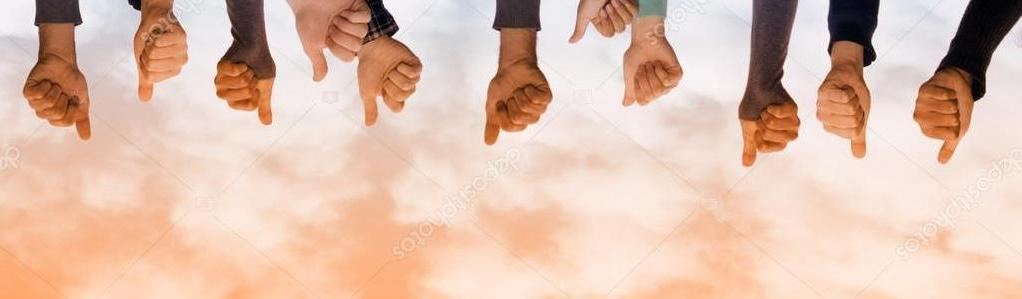thumbsdown: (312, 7, 371, 83), (484, 83, 553, 146), (22, 80, 91, 142), (912, 86, 965, 165), (815, 84, 869, 160), (363, 60, 423, 127), (138, 27, 189, 104), (214, 62, 273, 127), (742, 104, 802, 167), (568, 0, 640, 45), (622, 59, 683, 107)
